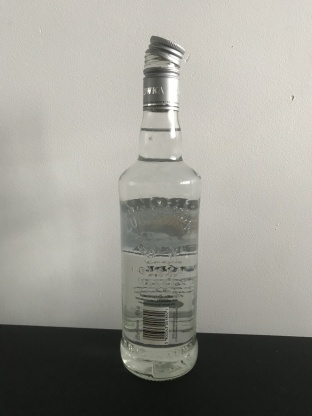nakretka: (141, 32, 186, 113)
